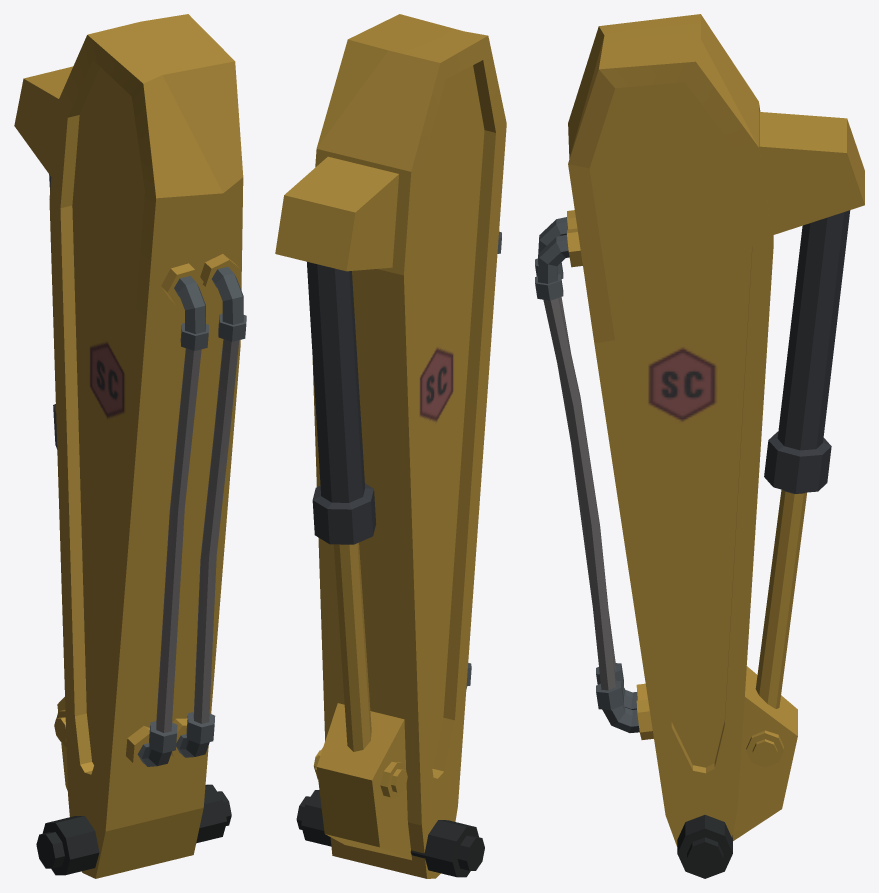
Rendered from SM_Veh_Excavator_02_Arm_02.obj.
The picture shows the model from 3 angles, left to right: view 1: azimuth 30°, elevation 25°; view 2: azimuth 150°, elevation 25°; view 3: azimuth 270°, elevation 25°; orthographic projection. The views are drawn at different scales.
Parts seen in each view (by area): view 1: SM_Veh_Excavator_02_Arm_02_0; view 2: SM_Veh_Excavator_02_Arm_02_0; view 3: SM_Veh_Excavator_02_Arm_02_0.
Part boxes in pixels (x1,y1,x2,y2): SM_Veh_Excavator_02_Arm_02_0: (14,14,246,878); SM_Veh_Excavator_02_Arm_02_0: (275,14,506,878); SM_Veh_Excavator_02_Arm_02_0: (535,14,864,878).
Bounding box in the file's own units: 0.2935 × 1.34 × 0.4926.
Materials: 1 (1 with a texture image).
